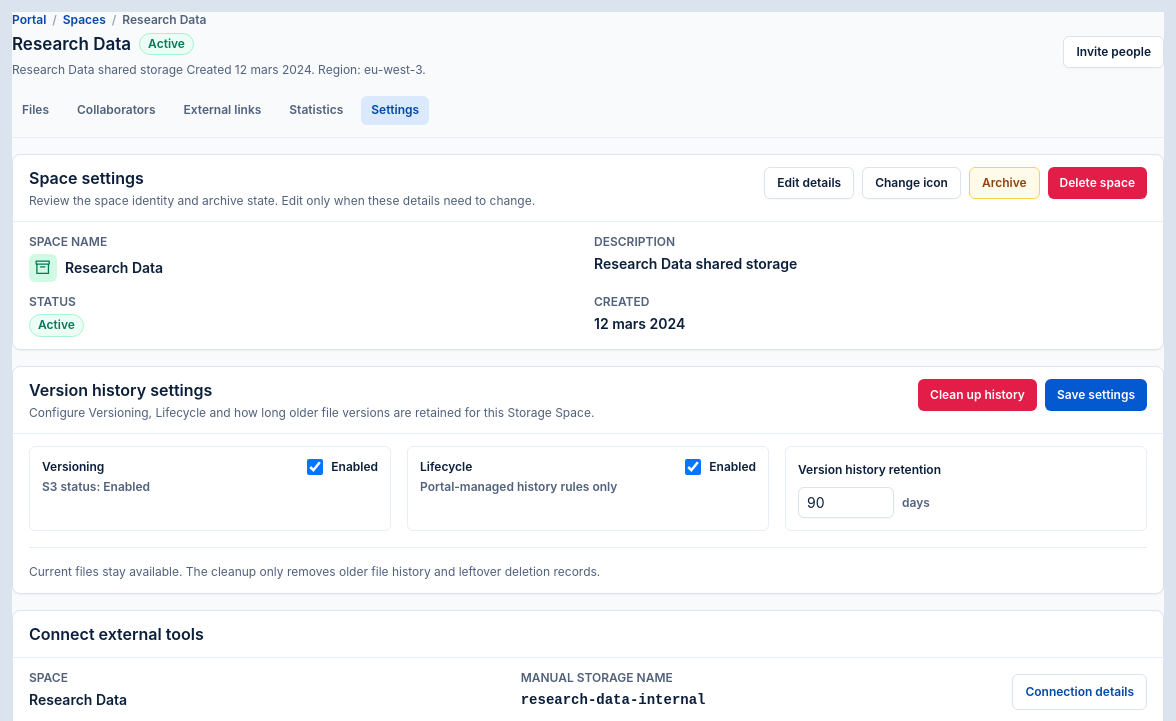
it: PortalStorageSpaceDetailPage › lets a Portal Manager configure Versioning, Lifecycle and version history retention
Click the checkbox named "Versioning": (315, 467) [307,459,323,475]
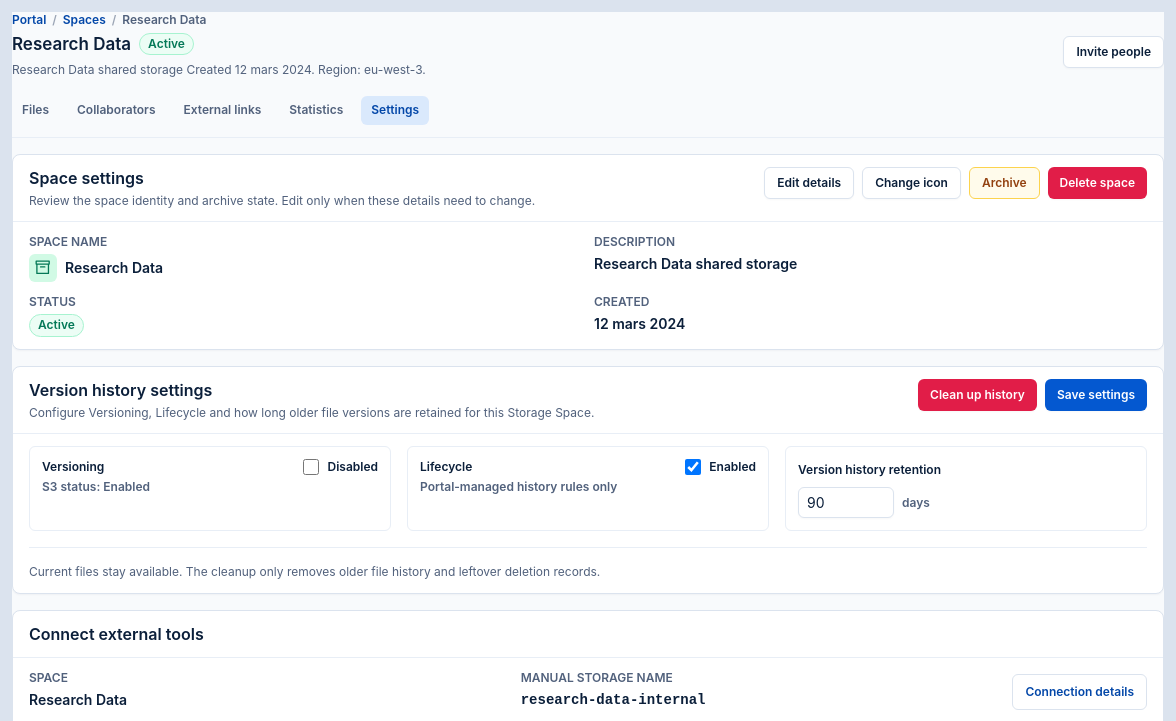
Check: the checkbox named "Lifecycle" is checked, box [685,459,701,475]
Replace the text in the number field labelled "Version history retention" with "45": (846, 502) [798,487,894,518]
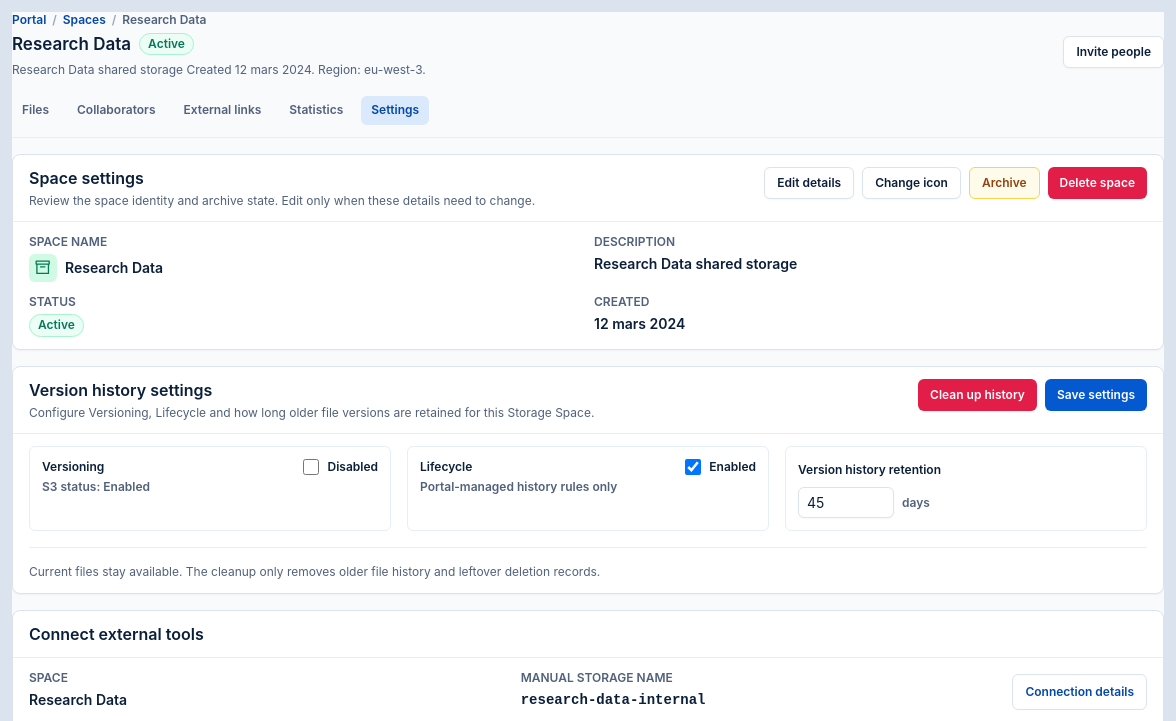
Click the button "Save settings": (1096, 394) [1045,378,1147,410]
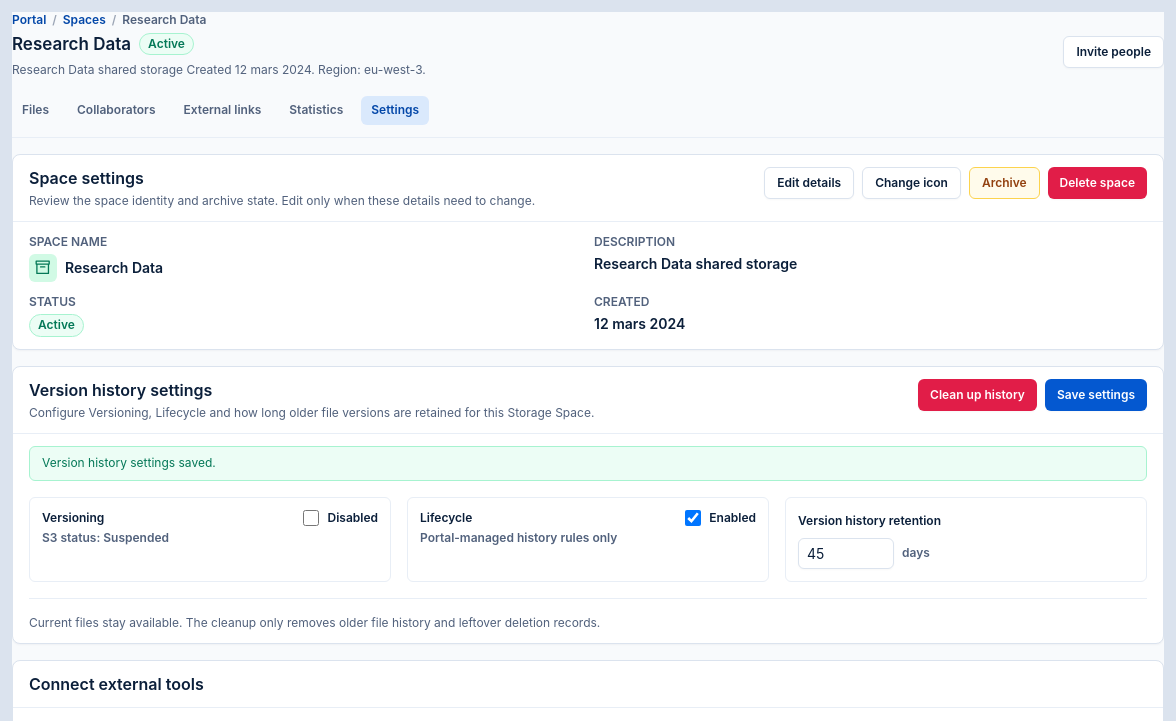
Check: the text "Version history settings saved." is shown, box [29,446,1147,480]
